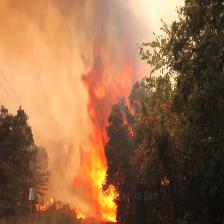fire: (62, 118, 144, 224)
smoke: (35, 1, 224, 111), (2, 0, 95, 155)
